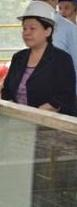hard-hat: (16, 0, 56, 25)
